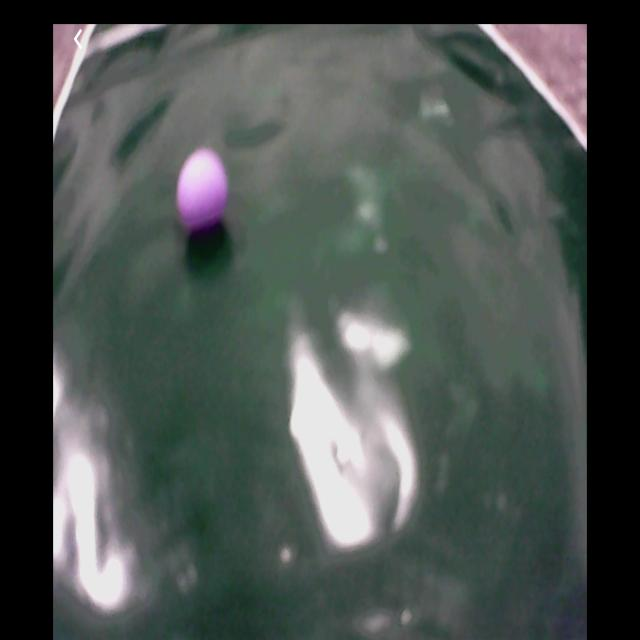ball: (177, 147, 229, 240)
